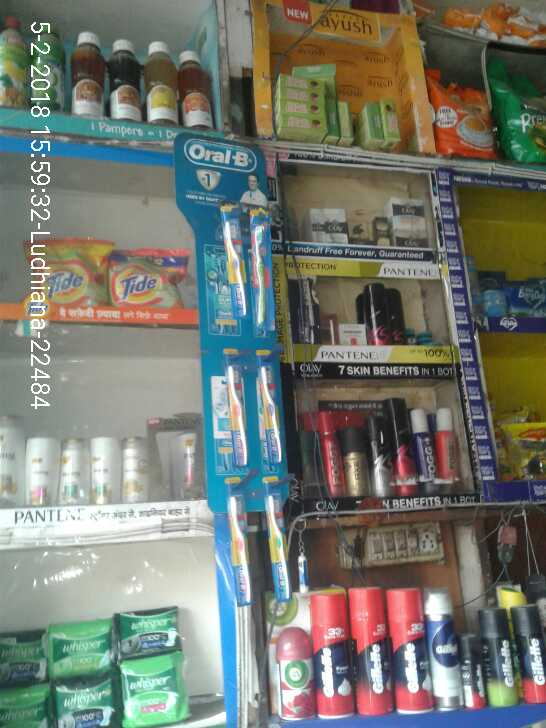beauty: (345, 585, 391, 715), (313, 589, 353, 720), (388, 581, 425, 721), (471, 603, 511, 711), (430, 598, 459, 711), (517, 601, 546, 703), (386, 191, 432, 249), (84, 432, 117, 509), (1, 423, 28, 506), (24, 436, 54, 503), (117, 438, 147, 504), (61, 434, 89, 501)
home: (107, 239, 199, 320), (15, 237, 112, 307)
pharmacy: (119, 655, 193, 728), (225, 476, 256, 611), (267, 485, 301, 599), (50, 678, 126, 728), (259, 353, 293, 461), (45, 618, 111, 673), (225, 351, 252, 469), (245, 204, 270, 331), (117, 614, 184, 658), (220, 208, 247, 316), (1, 629, 46, 686), (2, 688, 46, 728)
